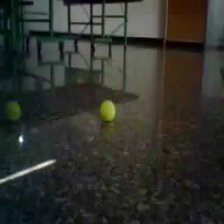tennis: (99, 99, 117, 123), (6, 101, 21, 122)
